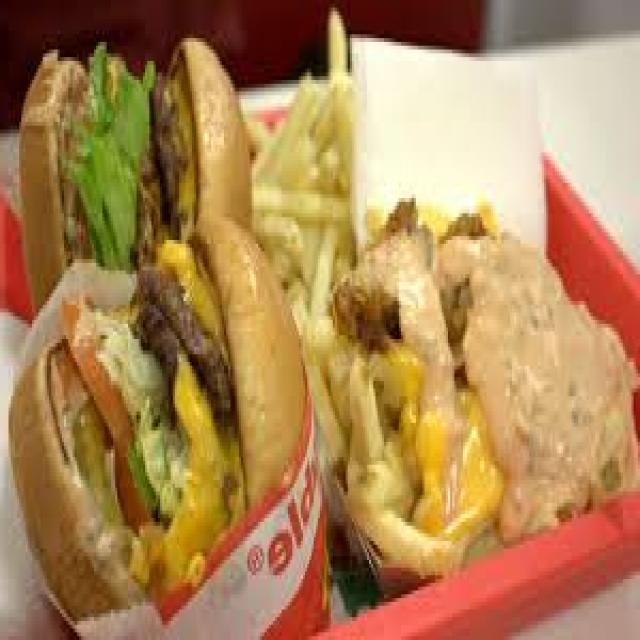Burger: (6, 30, 284, 625)
French Fries: (250, 4, 620, 579)
